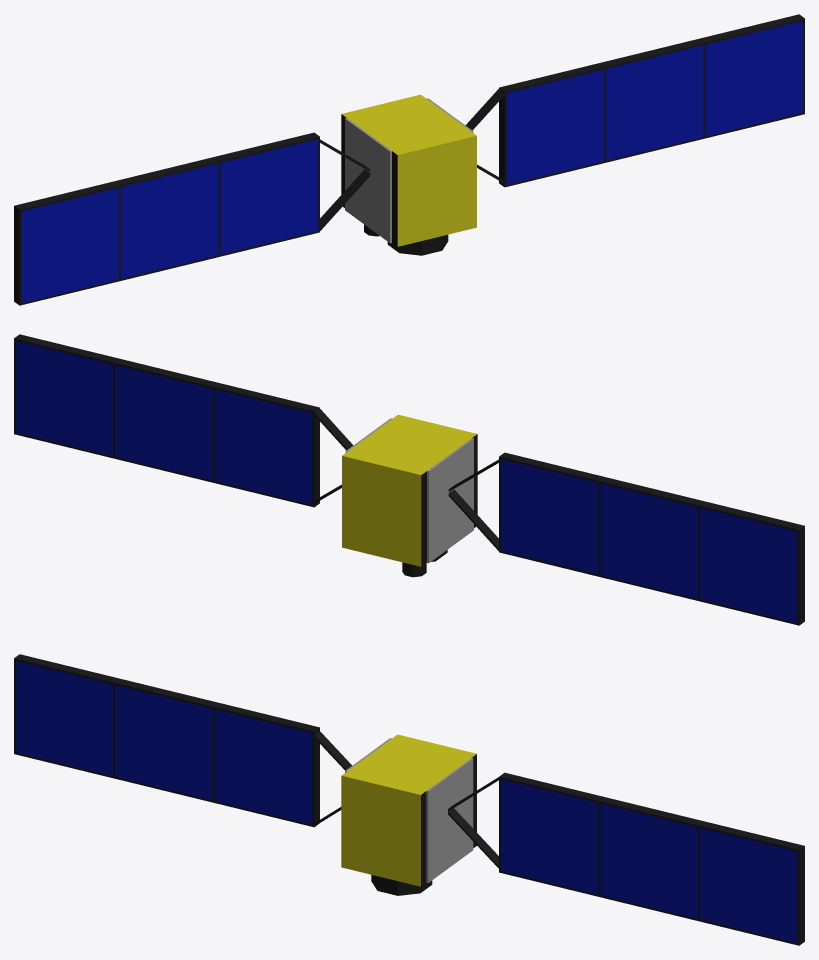
The model's file is gps.obj.
3 renders of one model, top to bottom at view 1: azimuth 30°, elevation 25°; view 2: azimuth 150°, elevation 25°; view 3: azimuth 330°, elevation 25°, orthographic.
Visible parts, largest first — view 1: Cube, Cube.003, Cube.002, Cube.021, Cube.004, Cube.019, Cube.020, Cube.024, Cube.005, Cube.014, Cube.018, Cube.009 (+4 smaller); view 2: Cube, Cube.020, Cube.019, Cube.021, Cube.003, Cube.002, Cube.004, Cube.024, Cube.005, Cube.014, Cube.009, Cube.018 (+3 smaller); view 3: Cube, Cube.021, Cube.003, Cube.002, Cube.020, Cube.004, Cube.019, Cube.023, Cube.005, Cube.014, Cube.018, Cube.009 (+4 smaller).
Boxes of the visible parts, x1,y1,x2,y2 form: Cube: (341, 94, 476, 246); Cube.003: (220, 139, 317, 254); Cube.002: (121, 163, 218, 278); Cube.021: (606, 45, 703, 160); Cube.004: (21, 188, 118, 302); Cube.019: (705, 21, 802, 136); Cube.020: (506, 69, 603, 184); Cube.024: (345, 118, 391, 243); Cube.005: (14, 132, 319, 211); Cube.014: (499, 14, 804, 93); Cube.018: (499, 112, 804, 187); Cube.009: (14, 230, 319, 305); Cube: (342, 414, 477, 566); Cube.020: (215, 389, 312, 504); Cube.019: (16, 341, 113, 456); Cube.021: (115, 365, 212, 480); Cube.003: (501, 459, 598, 574); Cube.002: (600, 483, 697, 598); Cube.004: (700, 508, 797, 622); Cube.024: (427, 438, 473, 563); Cube.005: (499, 452, 804, 531); Cube.014: (14, 334, 319, 413); Cube.009: (499, 550, 804, 625); Cube.018: (14, 432, 319, 507); Cube: (341, 734, 476, 886); Cube.021: (600, 803, 697, 918); Cube.003: (215, 709, 312, 824); Cube.002: (115, 685, 212, 800); Cube.020: (501, 779, 598, 894); Cube.004: (16, 661, 113, 775); Cube.019: (700, 828, 797, 942); Cube.023: (426, 758, 473, 882); Cube.005: (14, 654, 319, 733); Cube.014: (499, 772, 804, 851); Cube.018: (499, 870, 804, 945); Cube.009: (14, 752, 318, 827).
Bounding box in the file's own units: 13.1 × 1.99 × 1.63.
